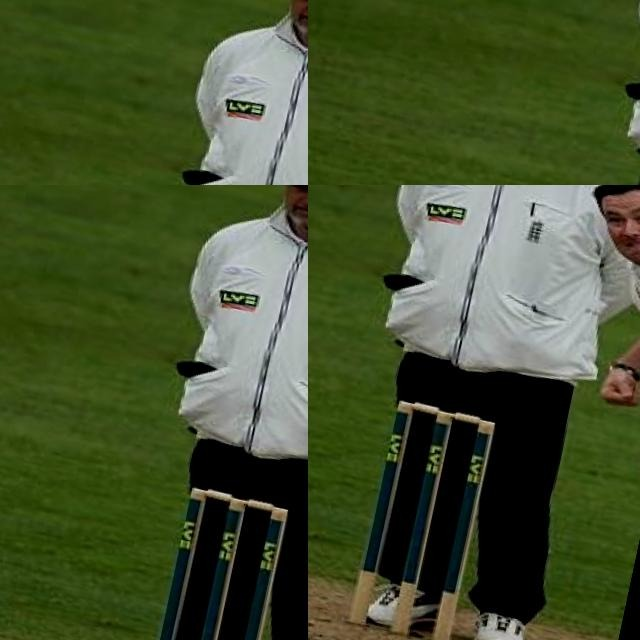No_Action: (83, 185, 308, 640), (156, 72, 308, 185)
Out: (308, 0, 640, 185)
Six: (323, 185, 640, 640)
